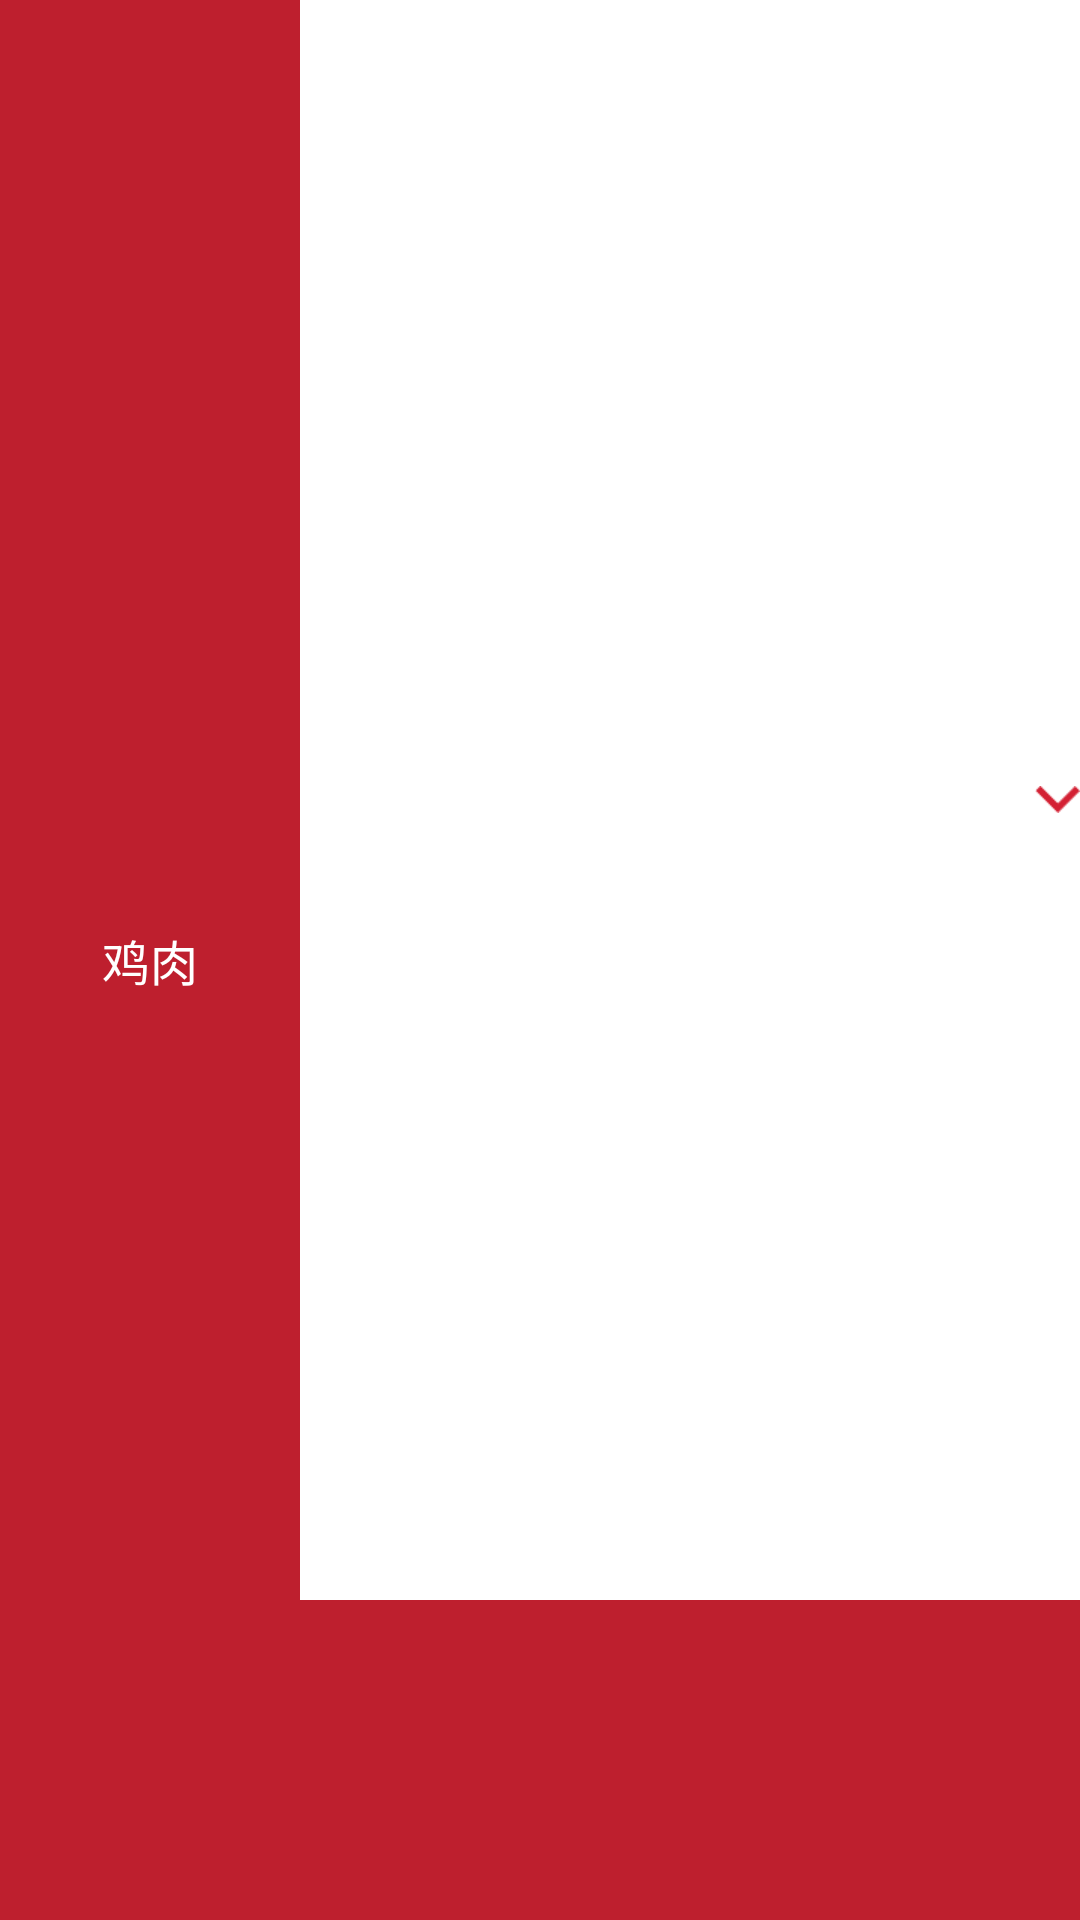

Screen size 1080*1920. Icon name, then its center in pixels as point (x, y):
arrow down: point (1057, 799)
